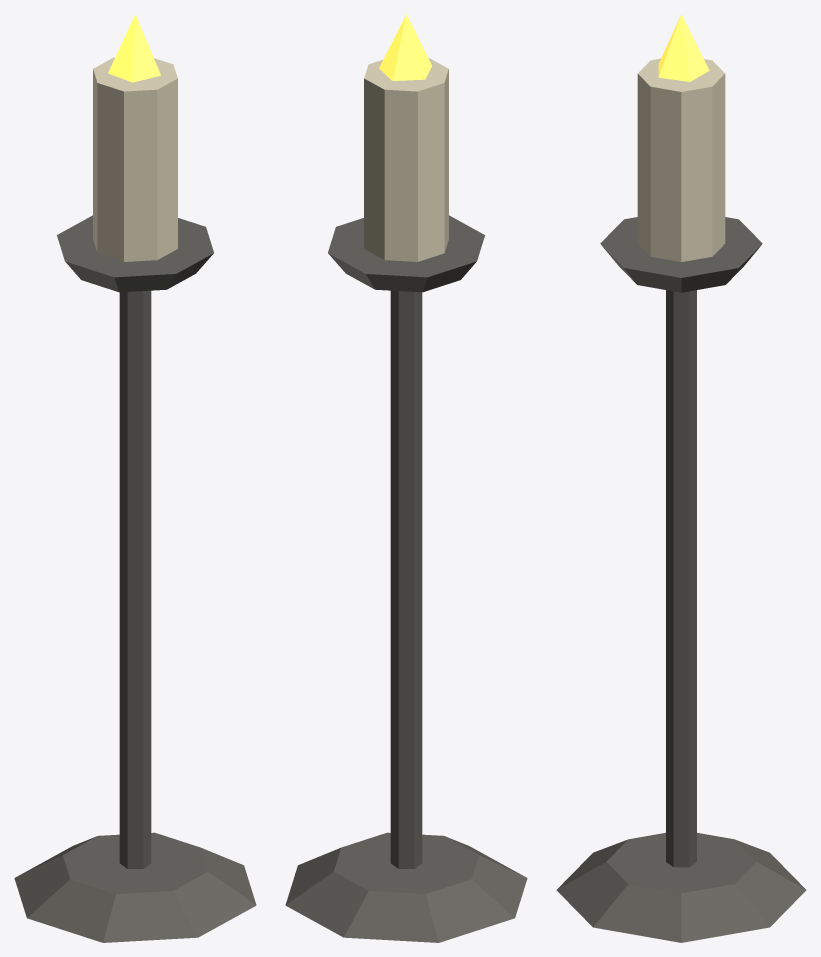
Rendered from candelabrum_3.glb.
The picture shows the model from 3 angles, left to right: view 1: azimuth 30°, elevation 25°; view 2: azimuth 150°, elevation 25°; view 3: azimuth 270°, elevation 25°; orthographic projection.
Parts seen in each view (by area): view 1: Candelabrum_3; view 2: Candelabrum_3; view 3: Candelabrum_3.
Part boxes in pixels (bbox=[...]): Candelabrum_3: bbox=[14, 14, 256, 942]; Candelabrum_3: bbox=[285, 14, 527, 942]; Candelabrum_3: bbox=[556, 14, 806, 942].
Size of the model in its own units: 0.4 by 1.54 by 0.4.
